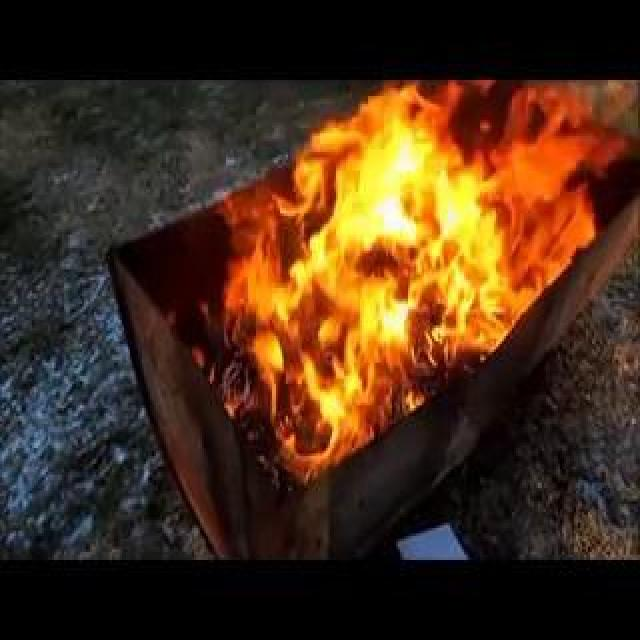Fire: (376, 286, 398, 402)
